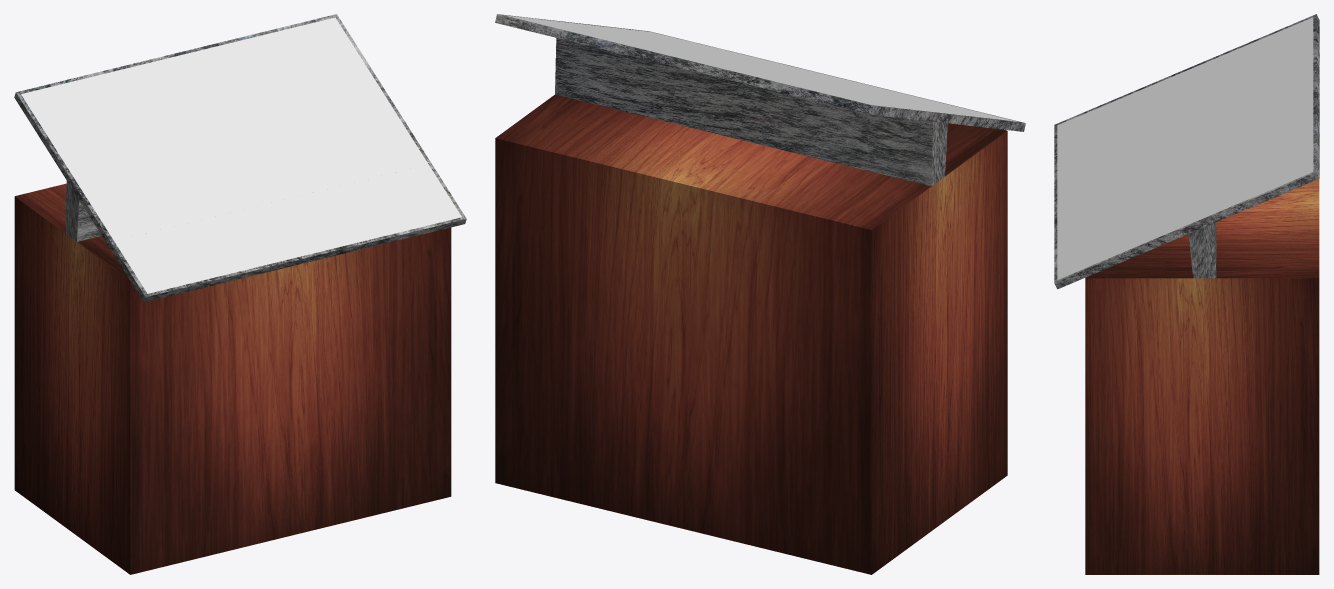
File: Pedestal_v2.FBX
3 views of the same model, side by side, from view 1: azimuth 30°, elevation 25°; view 2: azimuth 150°, elevation 25°; view 3: azimuth 270°, elevation 25° (orthographic). The views are drawn at different scales.
Parts seen in each view (by area): view 1: Object003, Glass, Object001, Object002; view 2: Object003, Object002, Glass, Object001; view 3: Object003, Glass, Object001, Object002.
Part boxes in pixels (box(x1,y1,x2,y2)): Object003: box(14, 183, 451, 574); Glass: box(21, 17, 461, 293); Object001: box(14, 14, 466, 302); Object002: box(65, 180, 101, 241); Object003: box(495, 94, 1007, 574); Object002: box(555, 38, 947, 186); Glass: box(504, 15, 1017, 121); Object001: box(495, 14, 1025, 131); Object003: box(1085, 179, 1319, 574); Glass: box(1057, 17, 1313, 279); Object001: box(1054, 14, 1319, 289); Object002: box(1188, 222, 1216, 278).
Bounding box in the file's own units: 240 × 285 × 170.
3 materials, 3 textured.
